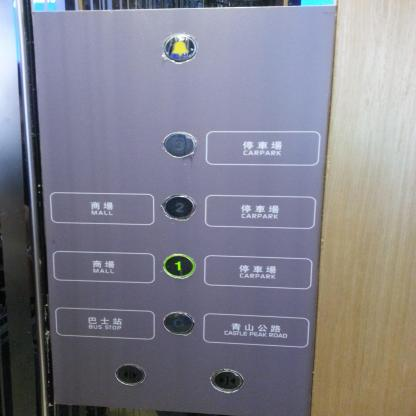1: (162, 252, 197, 280)
2: (160, 193, 198, 221)
3: (162, 130, 197, 158)
G: (162, 311, 194, 335)
alarm: (162, 32, 198, 64)
close: (210, 368, 244, 392)
open: (115, 364, 145, 385)
